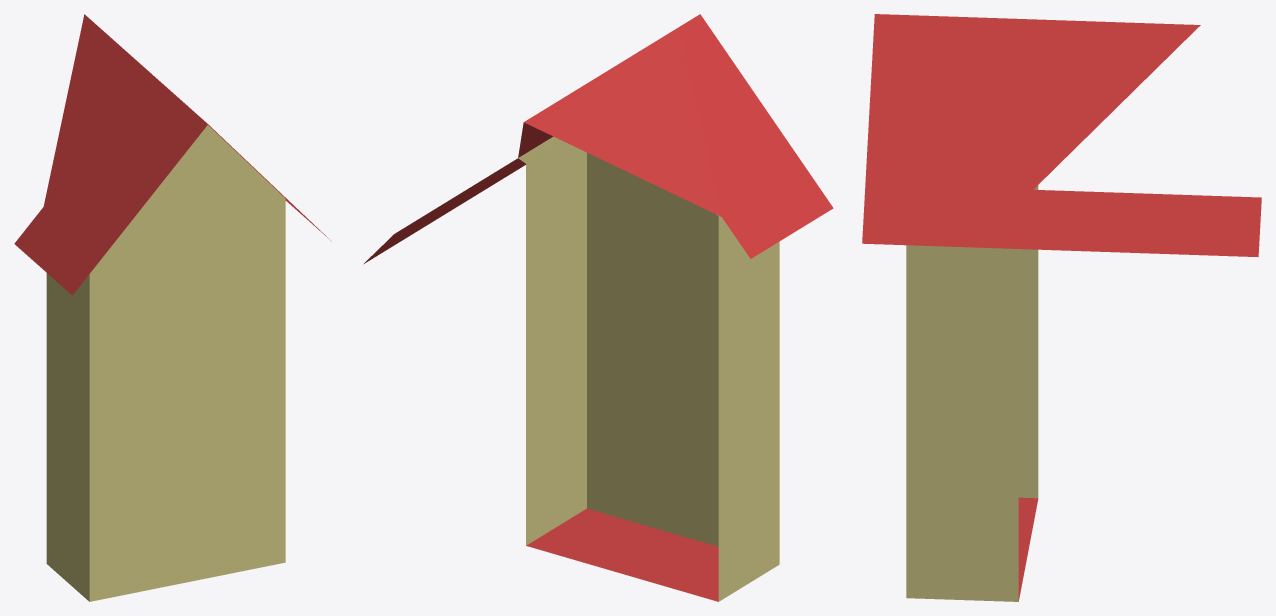
The picture shows the model from 3 angles, left to right: view 1: azimuth 30°, elevation 25°; view 2: azimuth 150°, elevation 25°; view 3: azimuth 270°, elevation 25°; orthographic projection. The views are drawn at different scales.
Bounding box in the file's own units: 6.58 × 7.33 × 10.8.
